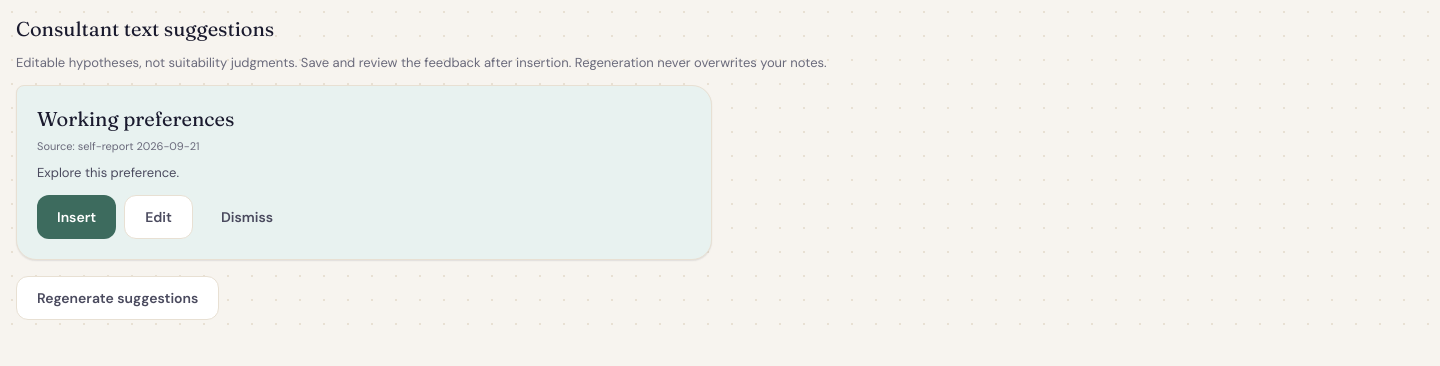
dismissal never inserts and a rejected oversized insertion keeps the card
Click the button "Insert" at (77, 217), box [37,195,116,239]
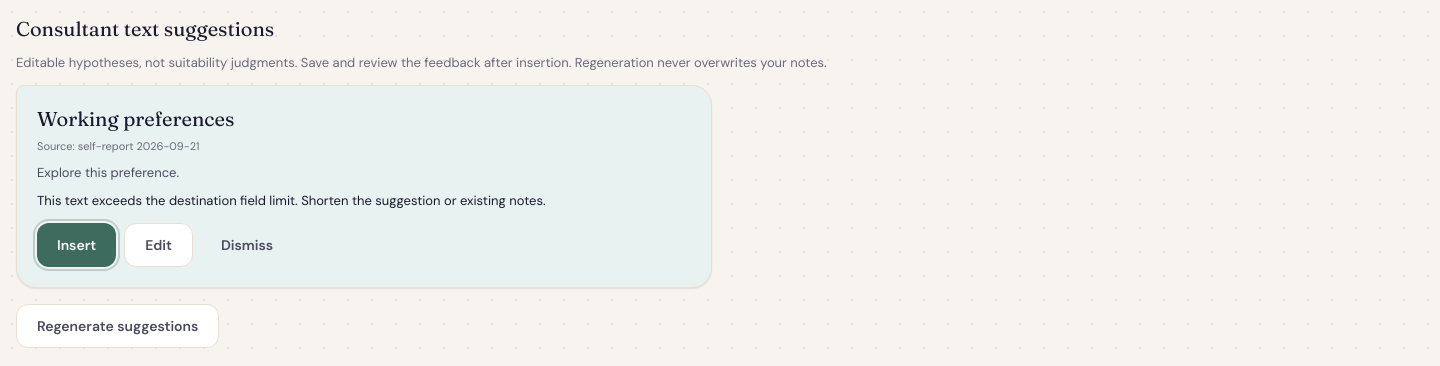
Now the message shows "exceeds", box [37,192,546,209]
Click the button "Dismiss" at (247, 245), box [201,223,293,267]
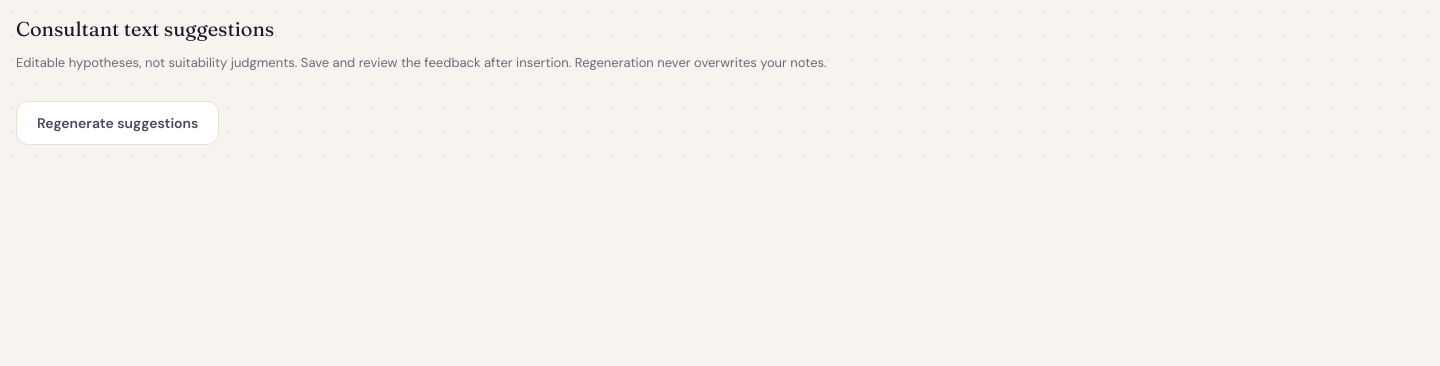
Now the heading "Working preferences" is gone
